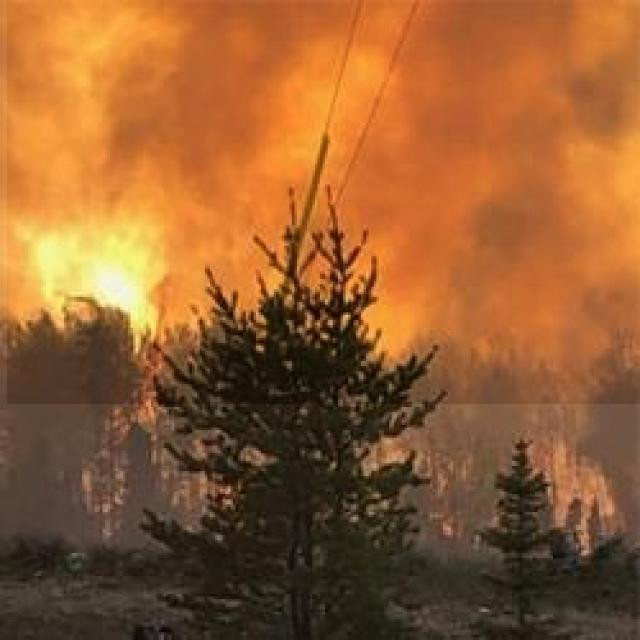Smoke: (7, 1, 640, 404)
